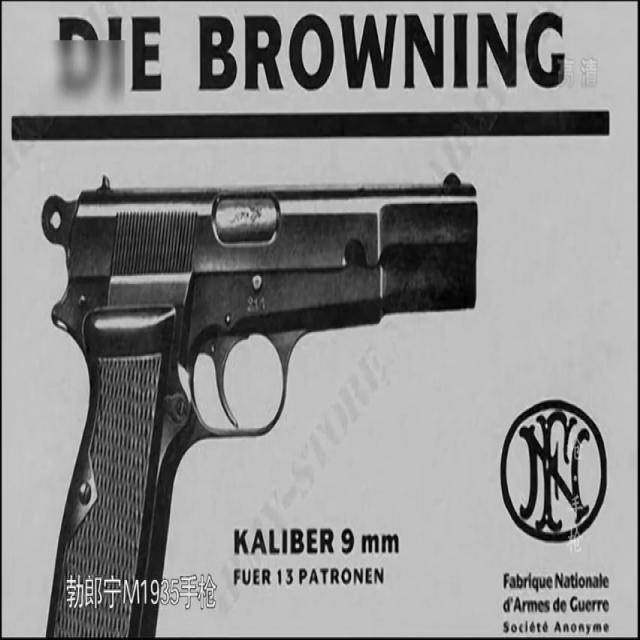Hand-Gun: (25, 78, 518, 640)
